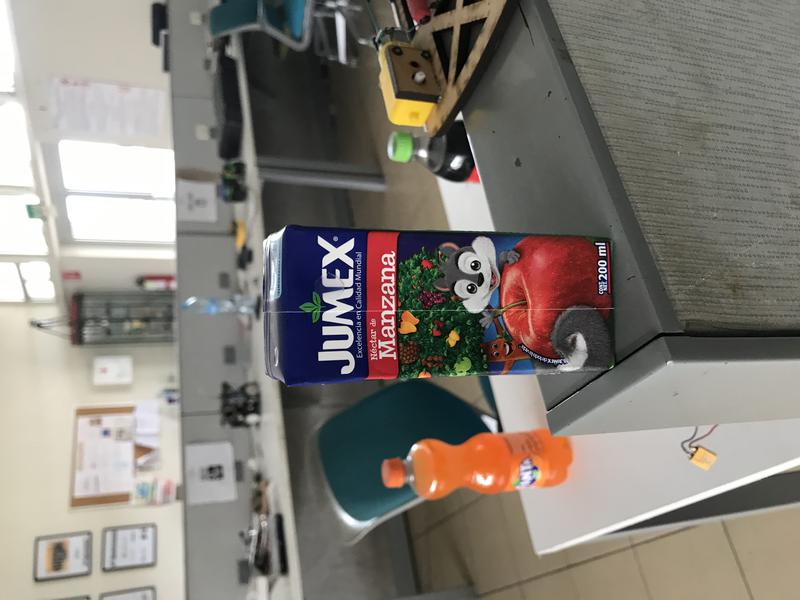fanta: (381, 428, 574, 499)
jumex_cajita: (262, 224, 615, 389)
